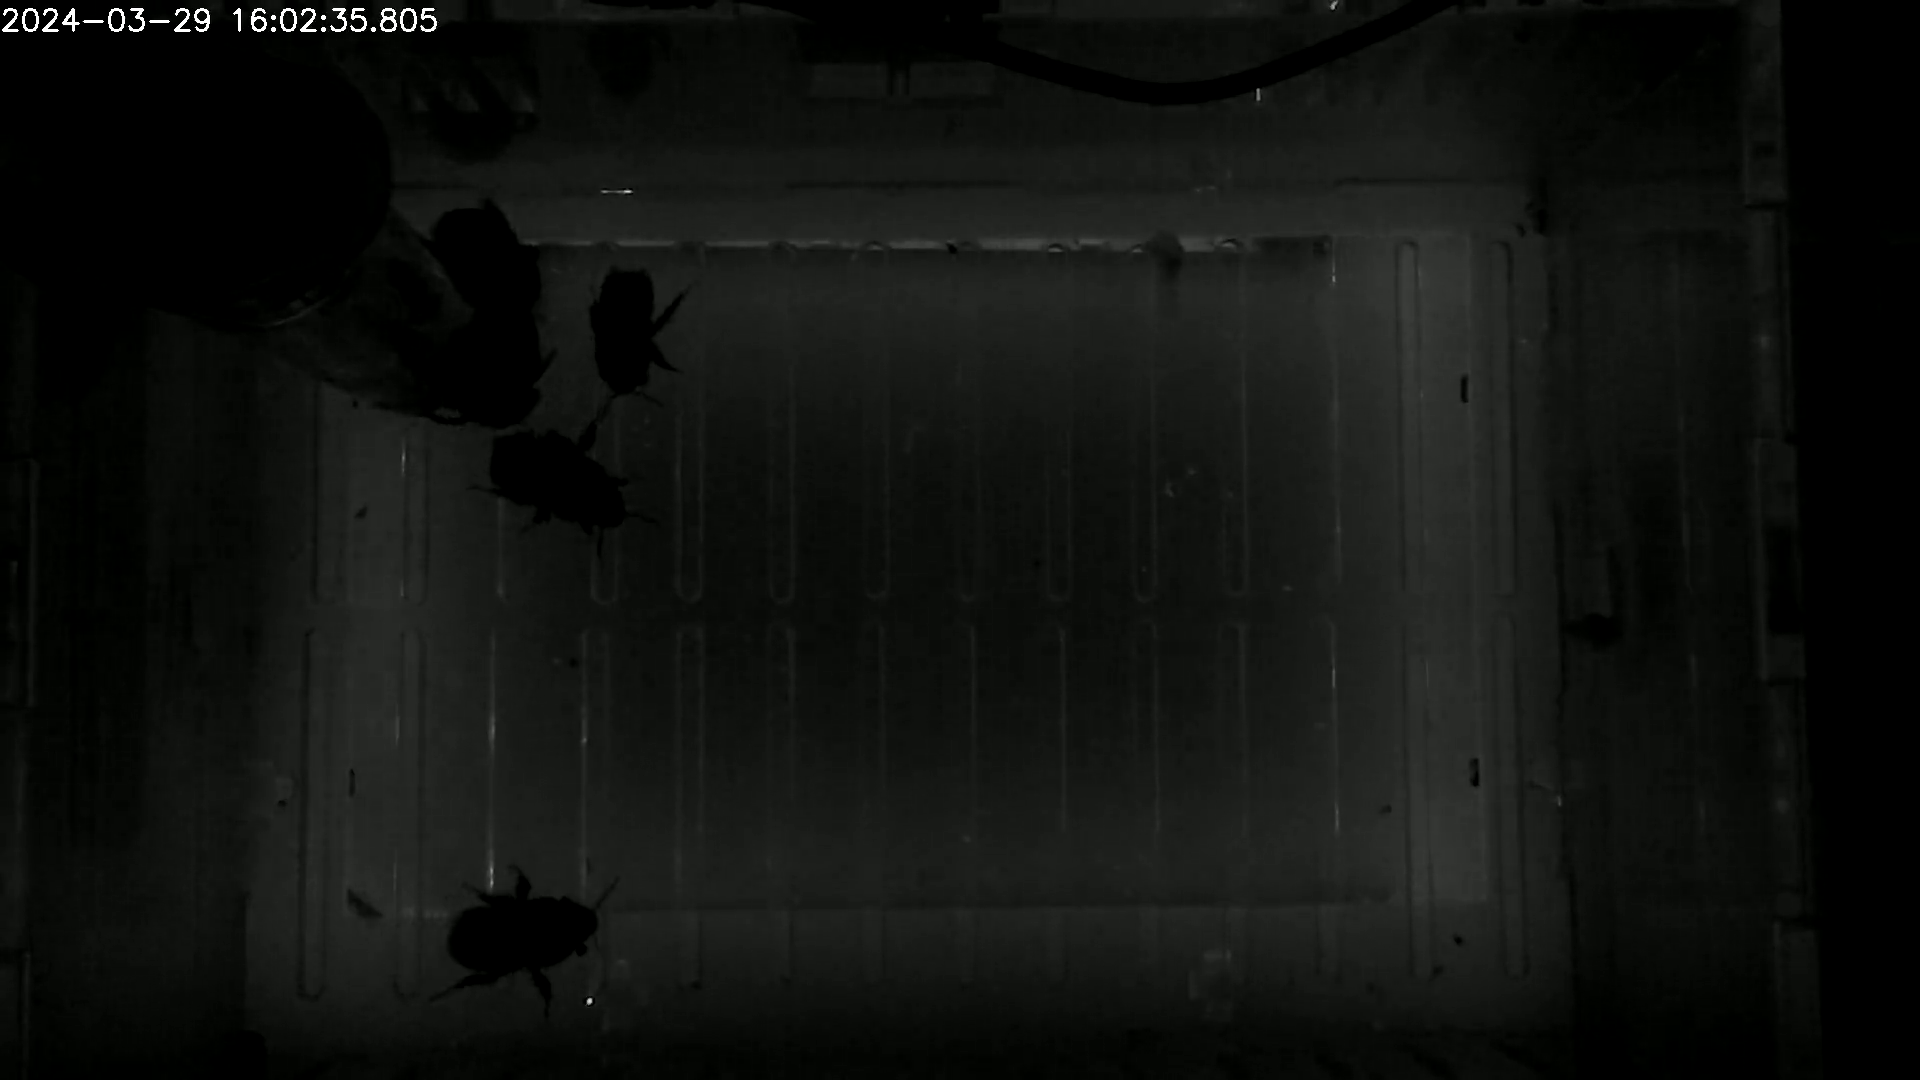bee: (429, 843, 628, 1021), (456, 409, 657, 566), (580, 257, 728, 417), (397, 181, 545, 316), (433, 307, 568, 429)
feeder: (352, 290, 500, 444)
